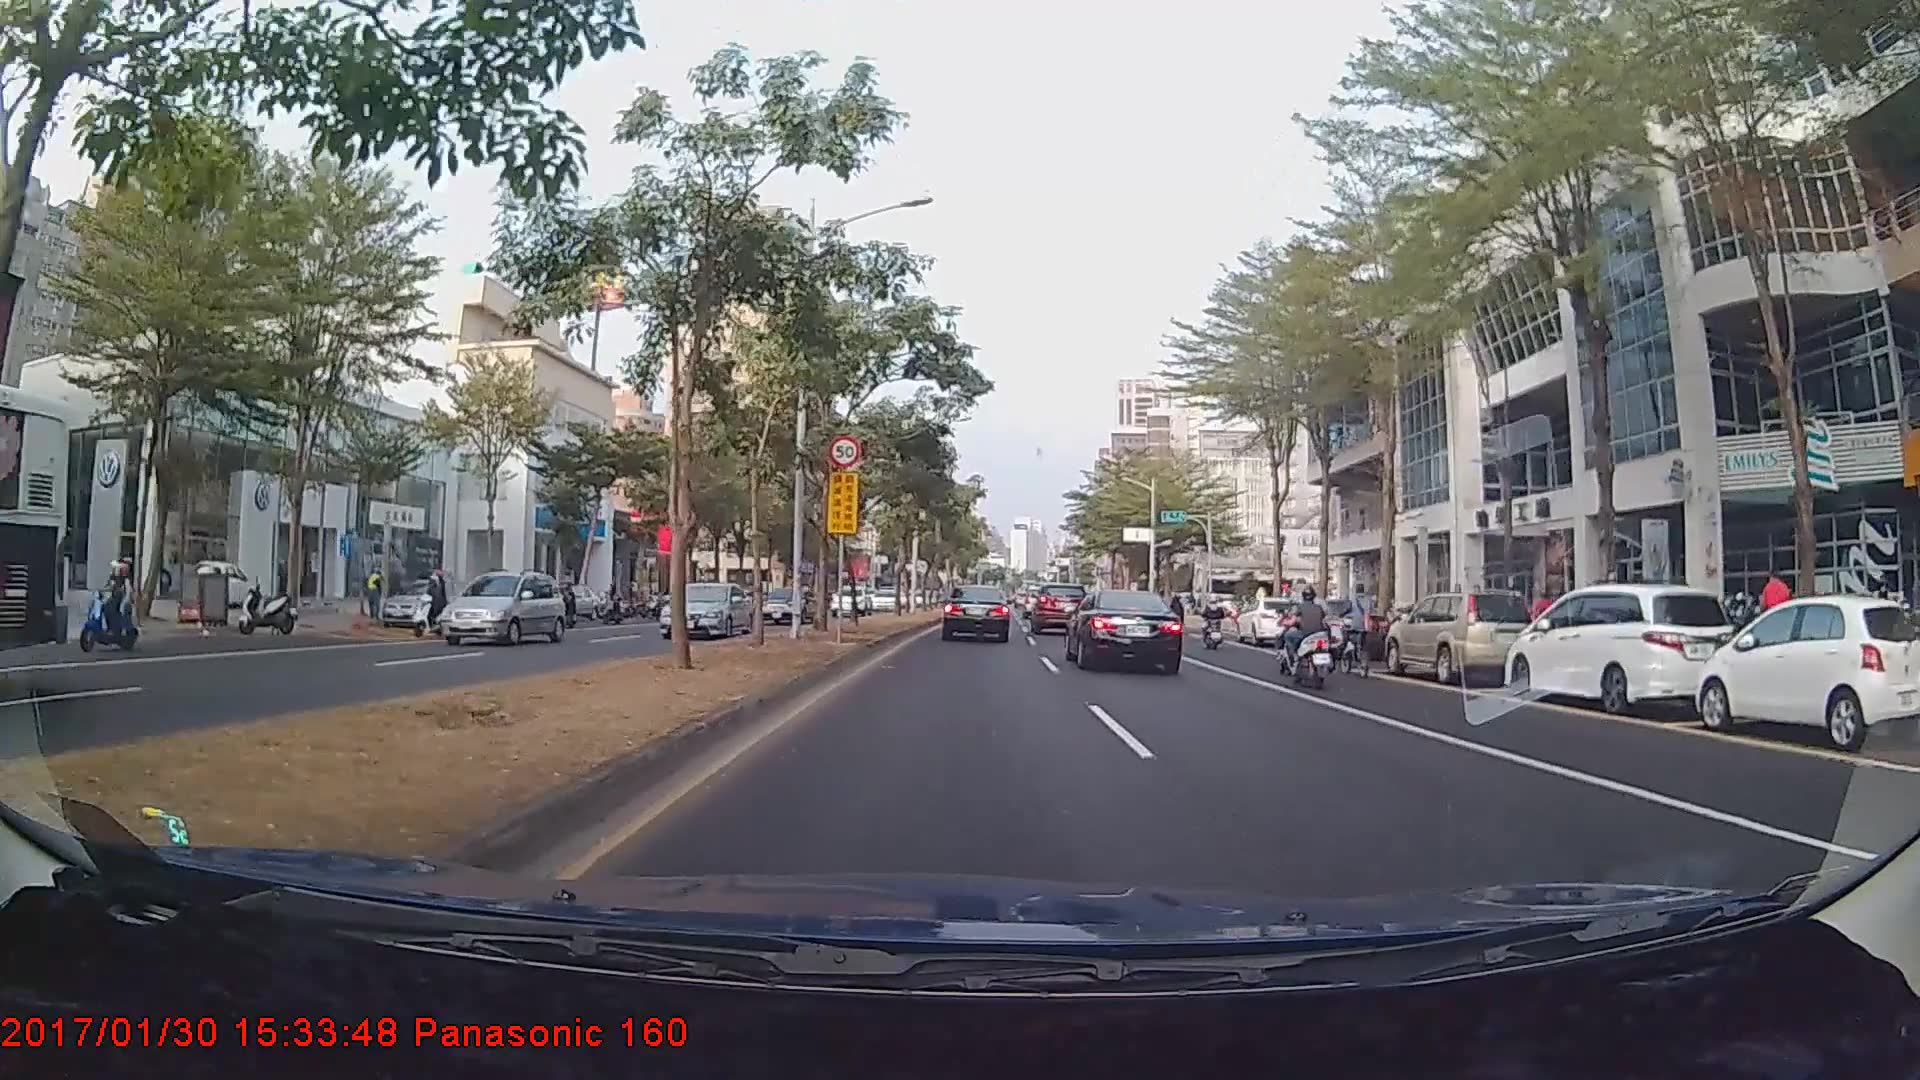rider: (1271, 582, 1345, 689), (71, 557, 138, 651), (410, 568, 453, 642), (1196, 594, 1230, 649)
vehicle: (1693, 594, 1920, 750), (1503, 582, 1736, 710), (1383, 592, 1536, 681), (1067, 584, 1184, 675), (436, 568, 570, 648), (1276, 598, 1380, 662), (655, 581, 751, 639), (940, 583, 1012, 643), (380, 581, 466, 628), (1239, 594, 1310, 647), (1029, 584, 1080, 633), (753, 586, 817, 624), (830, 586, 871, 616)
